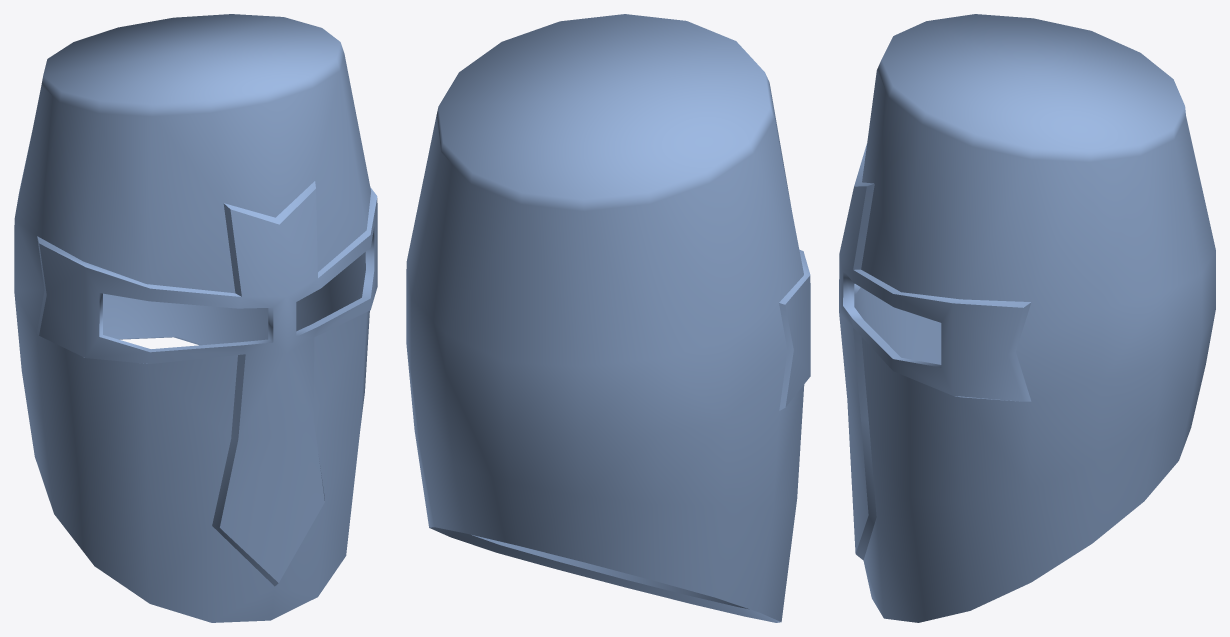
The model's file is helmet_e.FBX.
3 renders of one model, left to right at view 1: azimuth 30°, elevation 25°; view 2: azimuth 150°, elevation 25°; view 3: azimuth 270°, elevation 25°, orthographic. The views are drawn at different scales.
Visible parts, largest first — view 1: helmet_e; view 2: helmet_e; view 3: helmet_e.
Boxes of the visible parts, box(x1,y1,x2,y2) form: helmet_e: box(14, 14, 377, 622); helmet_e: box(406, 14, 810, 622); helmet_e: box(839, 14, 1215, 622).
Size of the model in its own units: 47.14 by 47.53 by 75.07.
